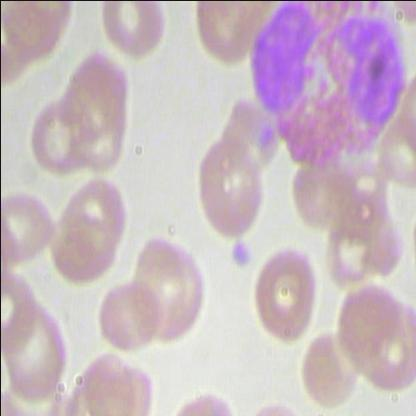Platelets: (228, 240, 253, 268)
RBC: (124, 237, 208, 347), (185, 131, 269, 241), (248, 246, 318, 342), (92, 1, 180, 62), (24, 97, 89, 177), (95, 276, 160, 356), (48, 209, 112, 289), (296, 324, 360, 404)
WBC: (246, 1, 411, 171)
